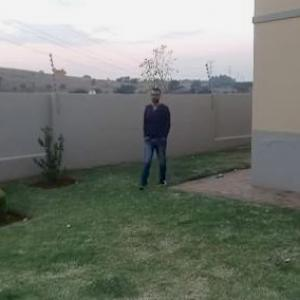follow: (140, 85, 176, 189)
